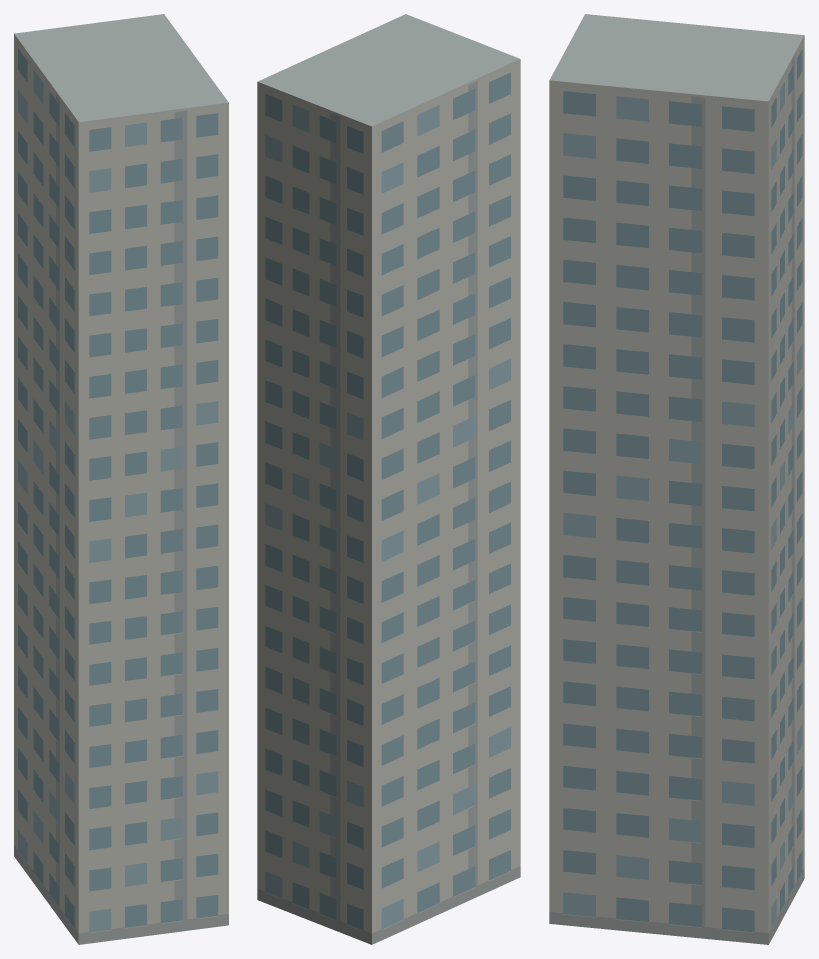
The model's file is residential-693cdaaa-aa9c-432c-8169-b8e1cca527ee.glb.
3 renders of one model, left to right at view 1: azimuth 30°, elevation 25°; view 2: azimuth 150°, elevation 25°; view 3: azimuth 270°, elevation 25°, orthographic. The views are drawn at different scales.
Visible parts, largest first — view 1: residential-693cdaaa-aa9c-432c-8169-b8e1cca527ee.tmp; view 2: residential-693cdaaa-aa9c-432c-8169-b8e1cca527ee.tmp; view 3: residential-693cdaaa-aa9c-432c-8169-b8e1cca527ee.tmp.
Boxes of the visible parts, x1,y1,x2,y2 form: residential-693cdaaa-aa9c-432c-8169-b8e1cca527ee.tmp: [14, 14, 228, 944]; residential-693cdaaa-aa9c-432c-8169-b8e1cca527ee.tmp: [257, 14, 520, 944]; residential-693cdaaa-aa9c-432c-8169-b8e1cca527ee.tmp: [549, 14, 804, 944].
Size of the model in its own units: 17.81 by 80 by 21.95.
